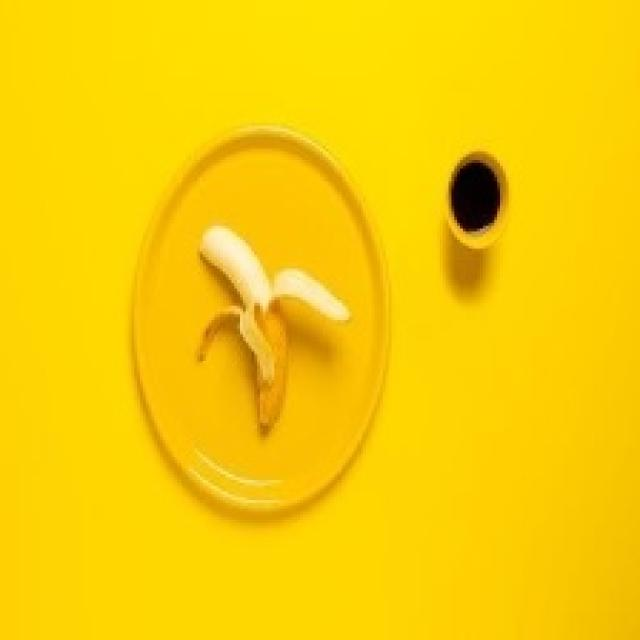Banana: (192, 223, 348, 431)
